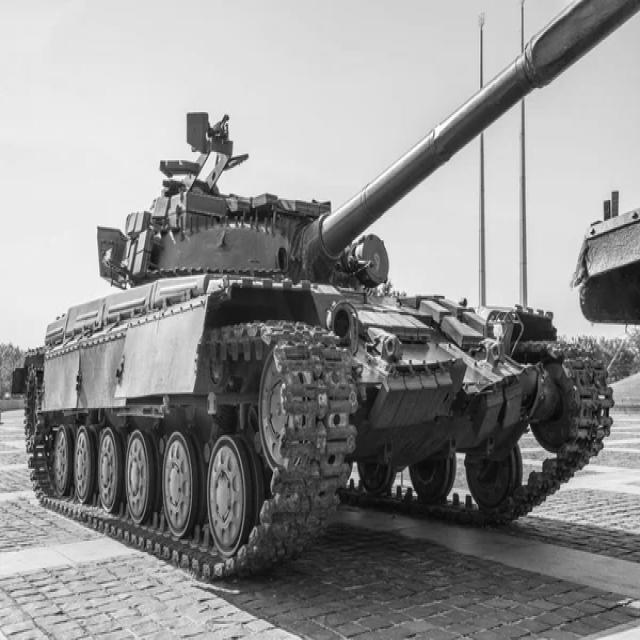Tank: (9, 0, 636, 572)
